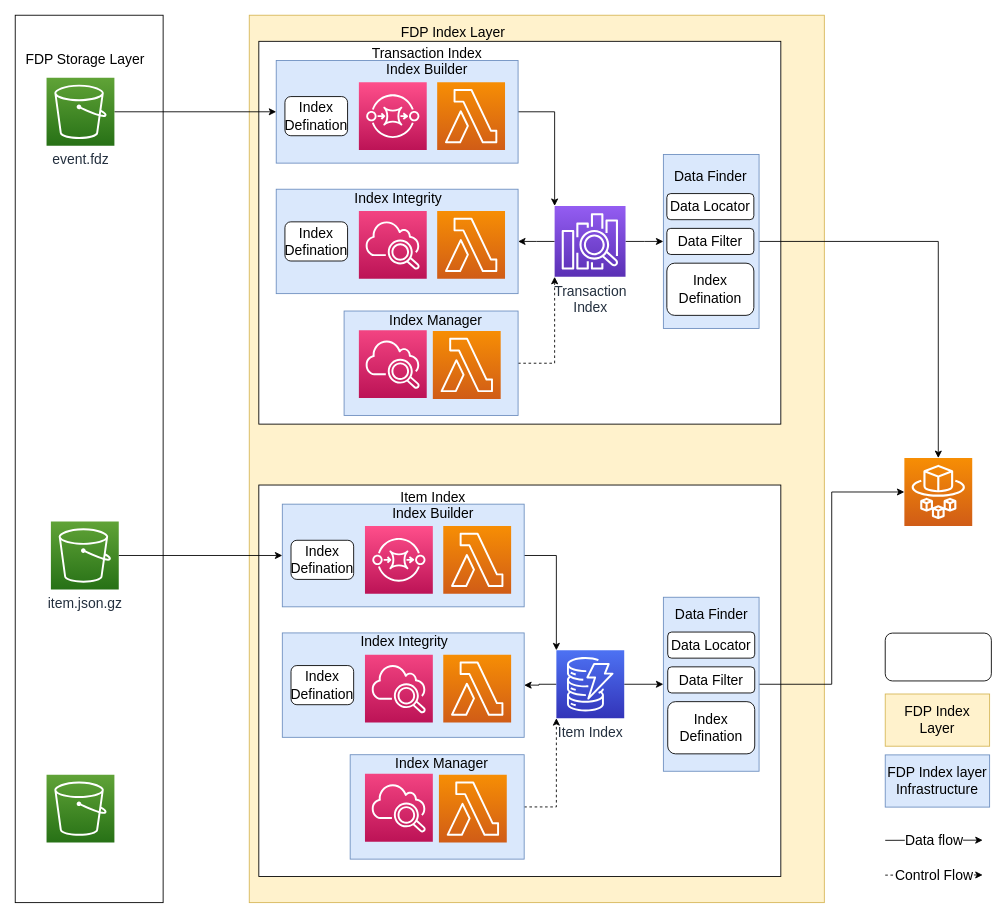
Some shapes in this 1007 by 918 pixel diagram are drawn without their labels. The shapes that lost their labels are listed below. From the top down, each one's centre as x and y in pixels, then its label:
At point (937, 491): "APIs".
At point (937, 656): "Code Lib".
At point (80, 808): "Others".
